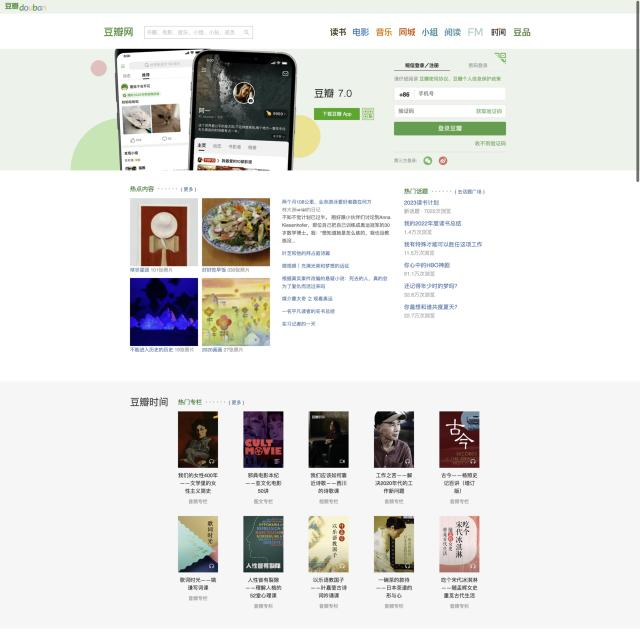CheckBox: (394, 122, 506, 136), (314, 107, 359, 121)
CheckedTextView: (394, 104, 506, 118), (143, 25, 253, 39), (394, 87, 506, 100)
Input field: (178, 470, 219, 496)
QR code: (403, 185, 488, 322)
TextView: (176, 410, 482, 615), (128, 197, 395, 354)
bag: (1, 0, 636, 47)
breadcrumbs: (128, 395, 171, 409)
card: (0, 48, 640, 171)
carousel: (362, 108, 374, 120), (243, 29, 250, 36), (208, 458, 215, 465), (274, 458, 280, 465), (340, 458, 346, 464), (404, 459, 410, 465)
copy: (129, 198, 199, 266), (202, 198, 270, 266), (202, 278, 270, 346), (308, 411, 349, 468)
data feed: (322, 111, 352, 117), (438, 125, 462, 132)
date picker: (101, 23, 136, 40)
decoration: (328, 26, 534, 40)
footer: (146, 28, 236, 36), (398, 108, 414, 114)
icon: (394, 60, 506, 72)
